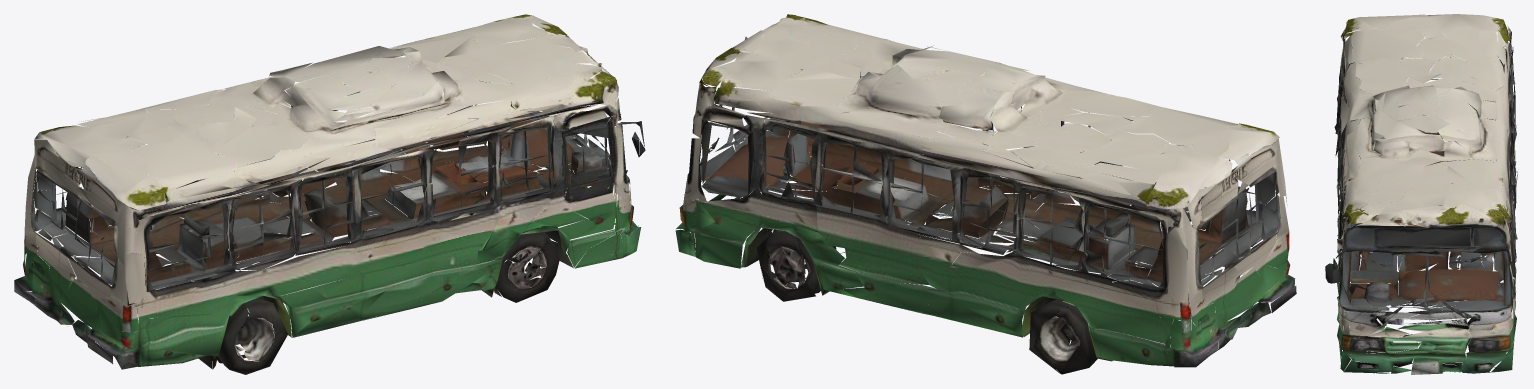
Rendered from city_bus.glb.
3 views of the same model, side by side, from view 1: azimuth 30°, elevation 25°; view 2: azimuth 150°, elevation 25°; view 3: azimuth 270°, elevation 25° (orthographic). The views are drawn at different scales.
Parts seen in each view (by area): view 1: tripo_node_1fe26604-c003-4f2f-a90a-9725b5e0aa6a; view 2: tripo_node_1fe26604-c003-4f2f-a90a-9725b5e0aa6a; view 3: tripo_node_1fe26604-c003-4f2f-a90a-9725b5e0aa6a.
Part boxes in pixels (x1=…): tripo_node_1fe26604-c003-4f2f-a90a-9725b5e0aa6a: x1=14, y1=14, x2=645, y2=374; tripo_node_1fe26604-c003-4f2f-a90a-9725b5e0aa6a: x1=675, y1=14, x2=1296, y2=374; tripo_node_1fe26604-c003-4f2f-a90a-9725b5e0aa6a: x1=1325, y1=14, x2=1517, y2=374.
Size of the model in its own units: 7.83 by 3.2 by 2.91.
Materials: 1 (1 with a texture image).
